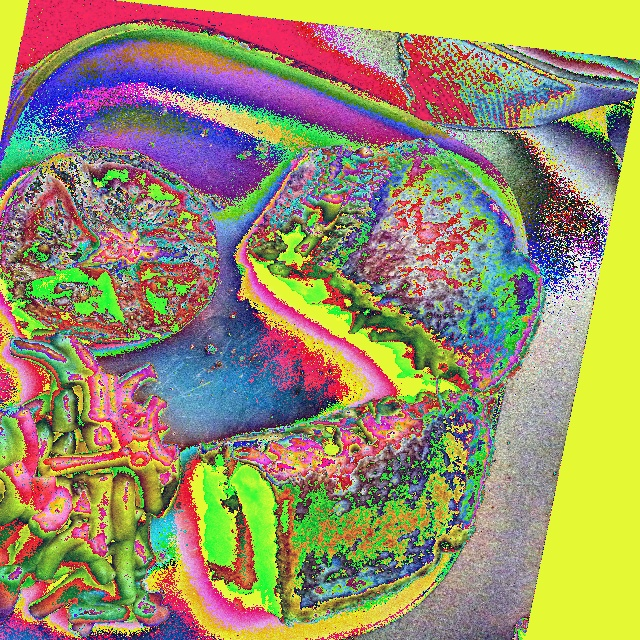background: (198, 138, 546, 627), (0, 147, 220, 637)
